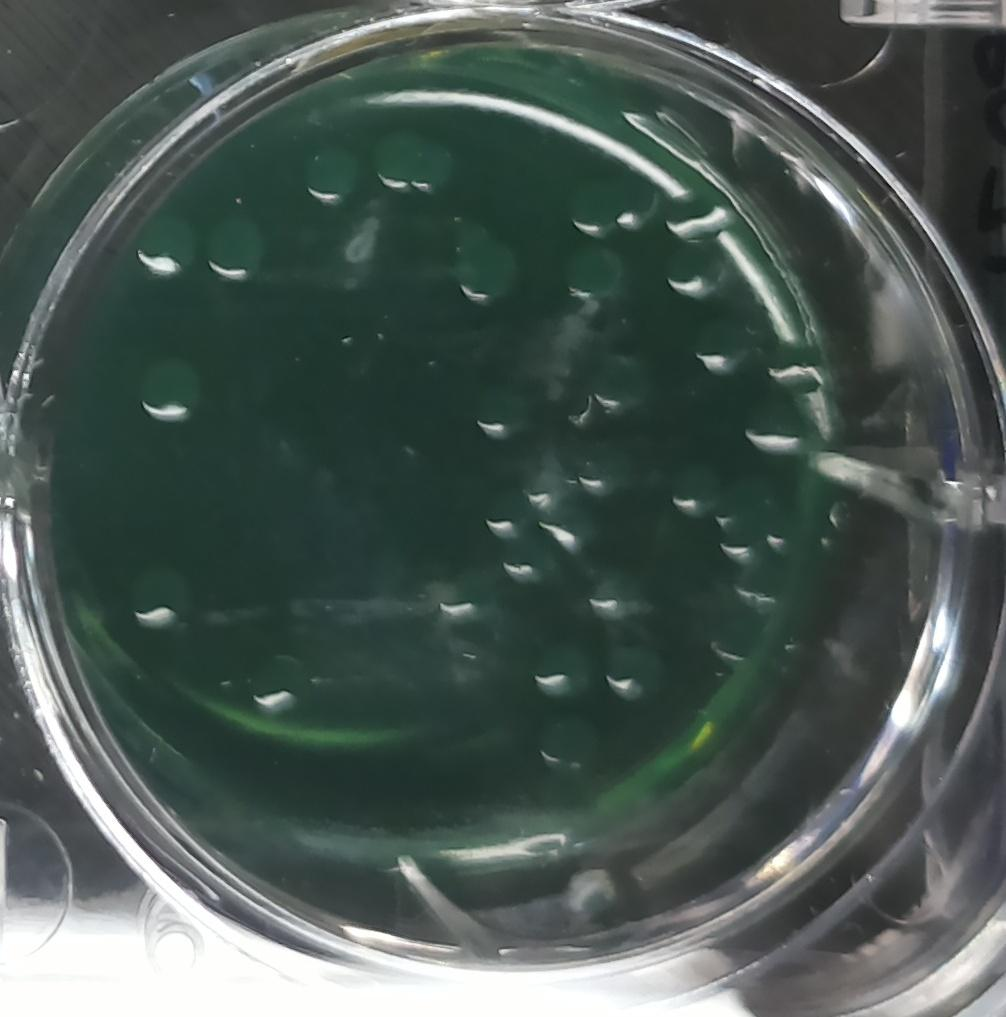vproteolyticus: (133, 346, 209, 431), (450, 213, 519, 305), (568, 170, 655, 241), (732, 386, 812, 463), (371, 126, 453, 193), (537, 490, 611, 560), (125, 560, 192, 637), (241, 646, 307, 722), (560, 243, 632, 312), (199, 213, 266, 284), (133, 208, 199, 279), (601, 642, 670, 707), (757, 335, 826, 399), (661, 242, 730, 305), (301, 139, 361, 206), (583, 565, 650, 625), (523, 638, 586, 701), (495, 527, 558, 590), (664, 187, 727, 247), (588, 350, 644, 417), (440, 569, 500, 631), (694, 316, 751, 379), (664, 454, 720, 517), (575, 448, 637, 502), (518, 458, 575, 516), (474, 380, 526, 440), (474, 491, 532, 541)
